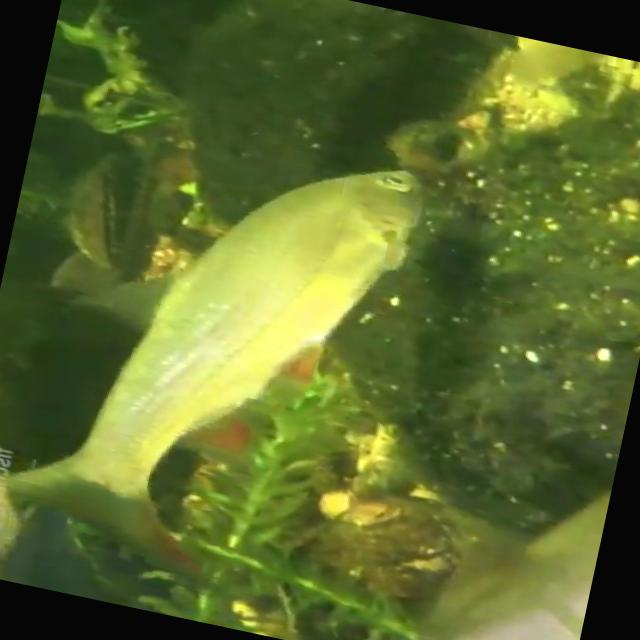Cakil Baligi: (0, 96, 439, 620)
